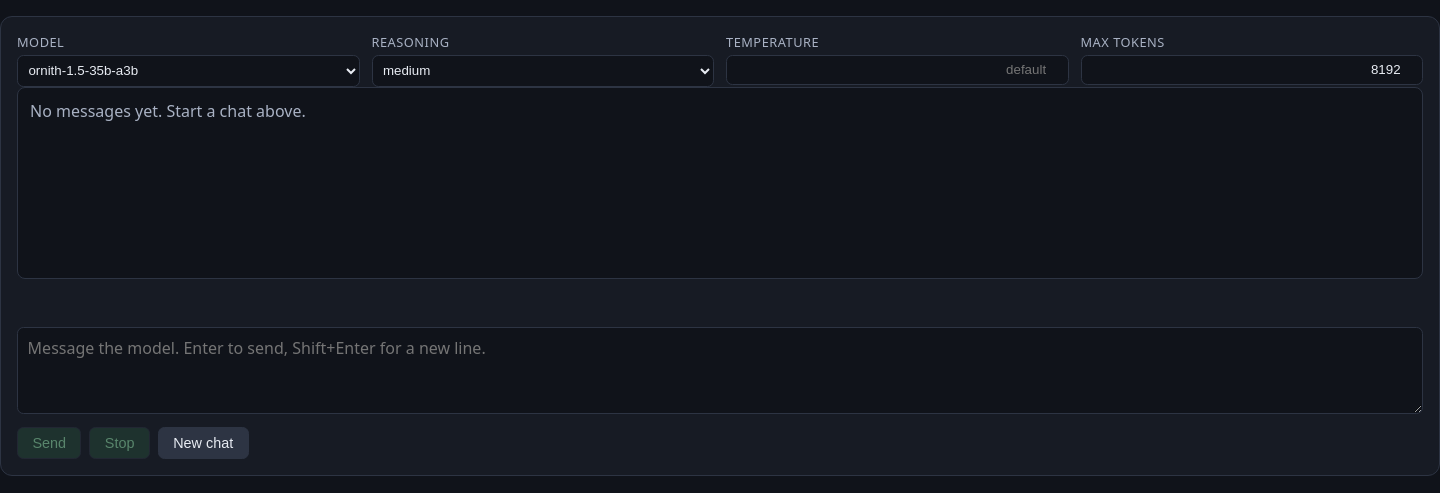
Test case: ChatPlayground › clears the conversation with new chat
Replace the text in the text box with test id "prompt-input" with "first prompt" at (720, 370), box left=17, top=327, right=1423, bottom=414
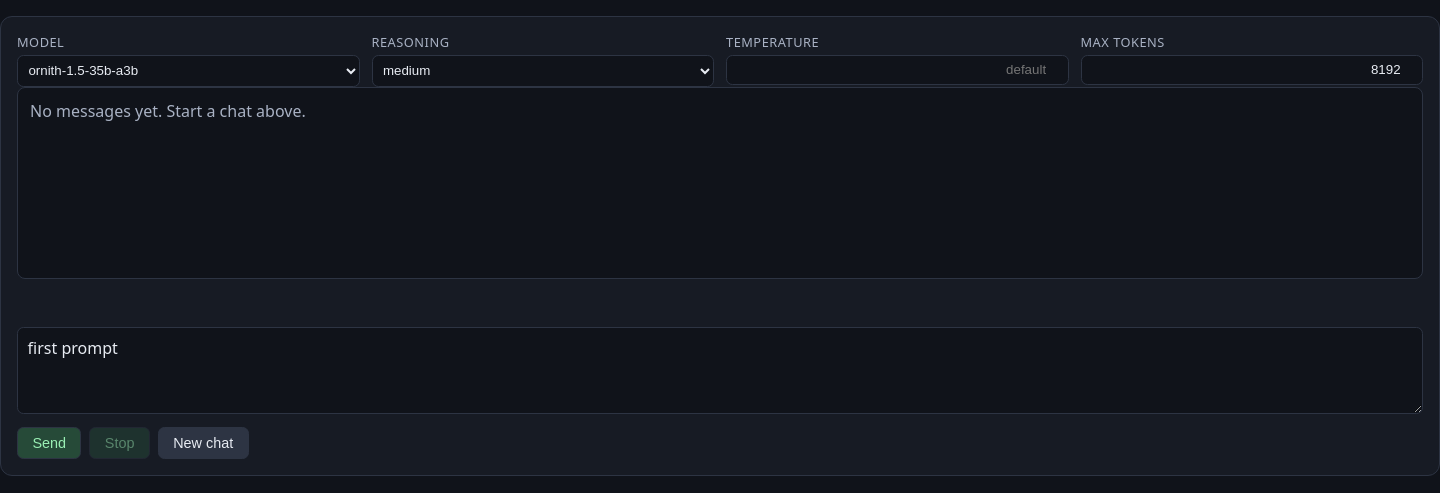
Click the button with test id "send-button".
click(49, 443)  # box left=17, top=427, right=81, bottom=459
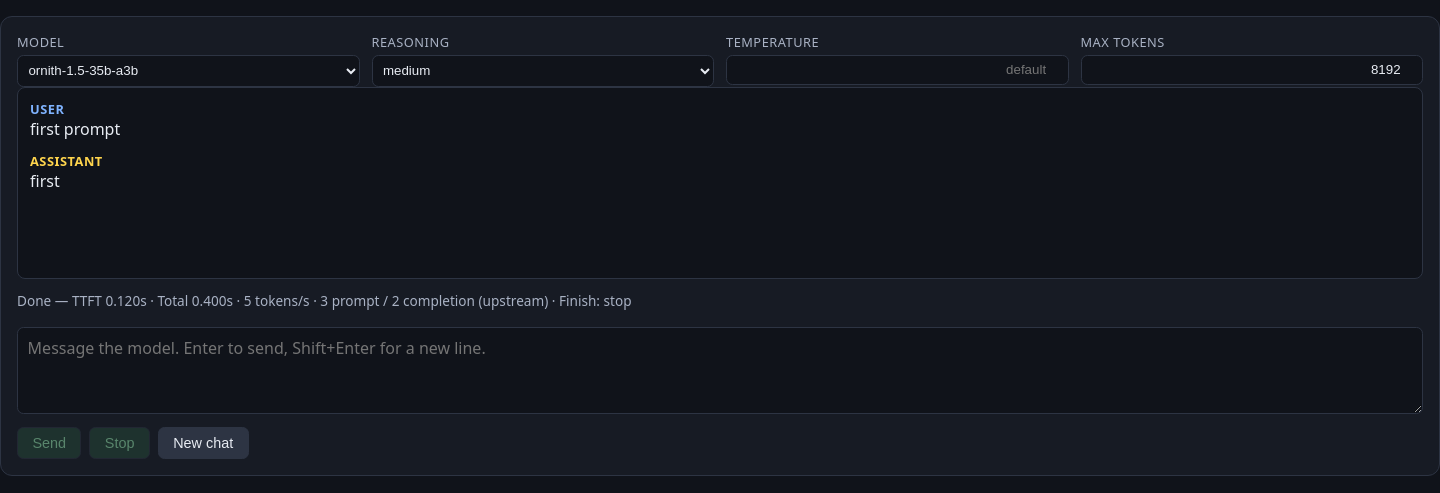
Expected: the text "first" is shown, left=30, top=170, right=60, bottom=192
Click the button with test id "new-chat-button".
click(203, 443)  # box left=158, top=427, right=249, bottom=459
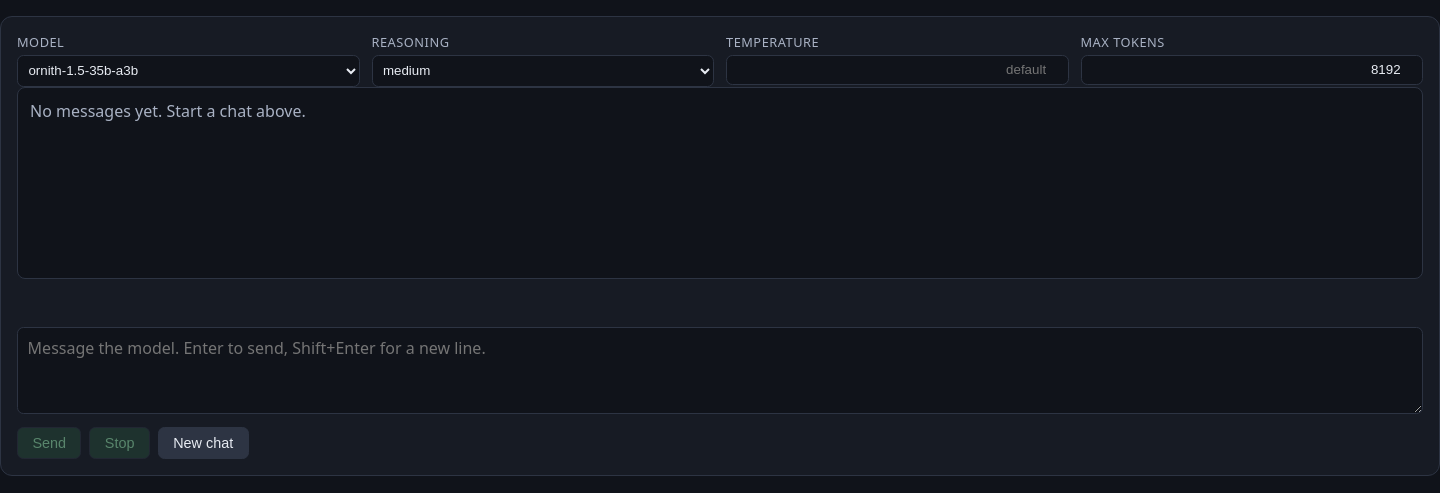
Expected: the text box with test id "prompt-input" is empty, left=17, top=327, right=1423, bottom=414
Expected: the text "No messages yet. Start a chat above." is shown, left=30, top=100, right=306, bottom=122
